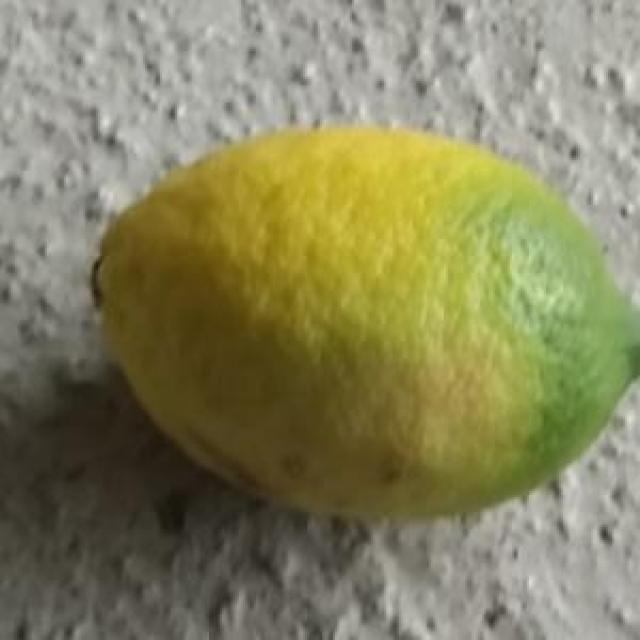lemon: (91, 117, 640, 523)
